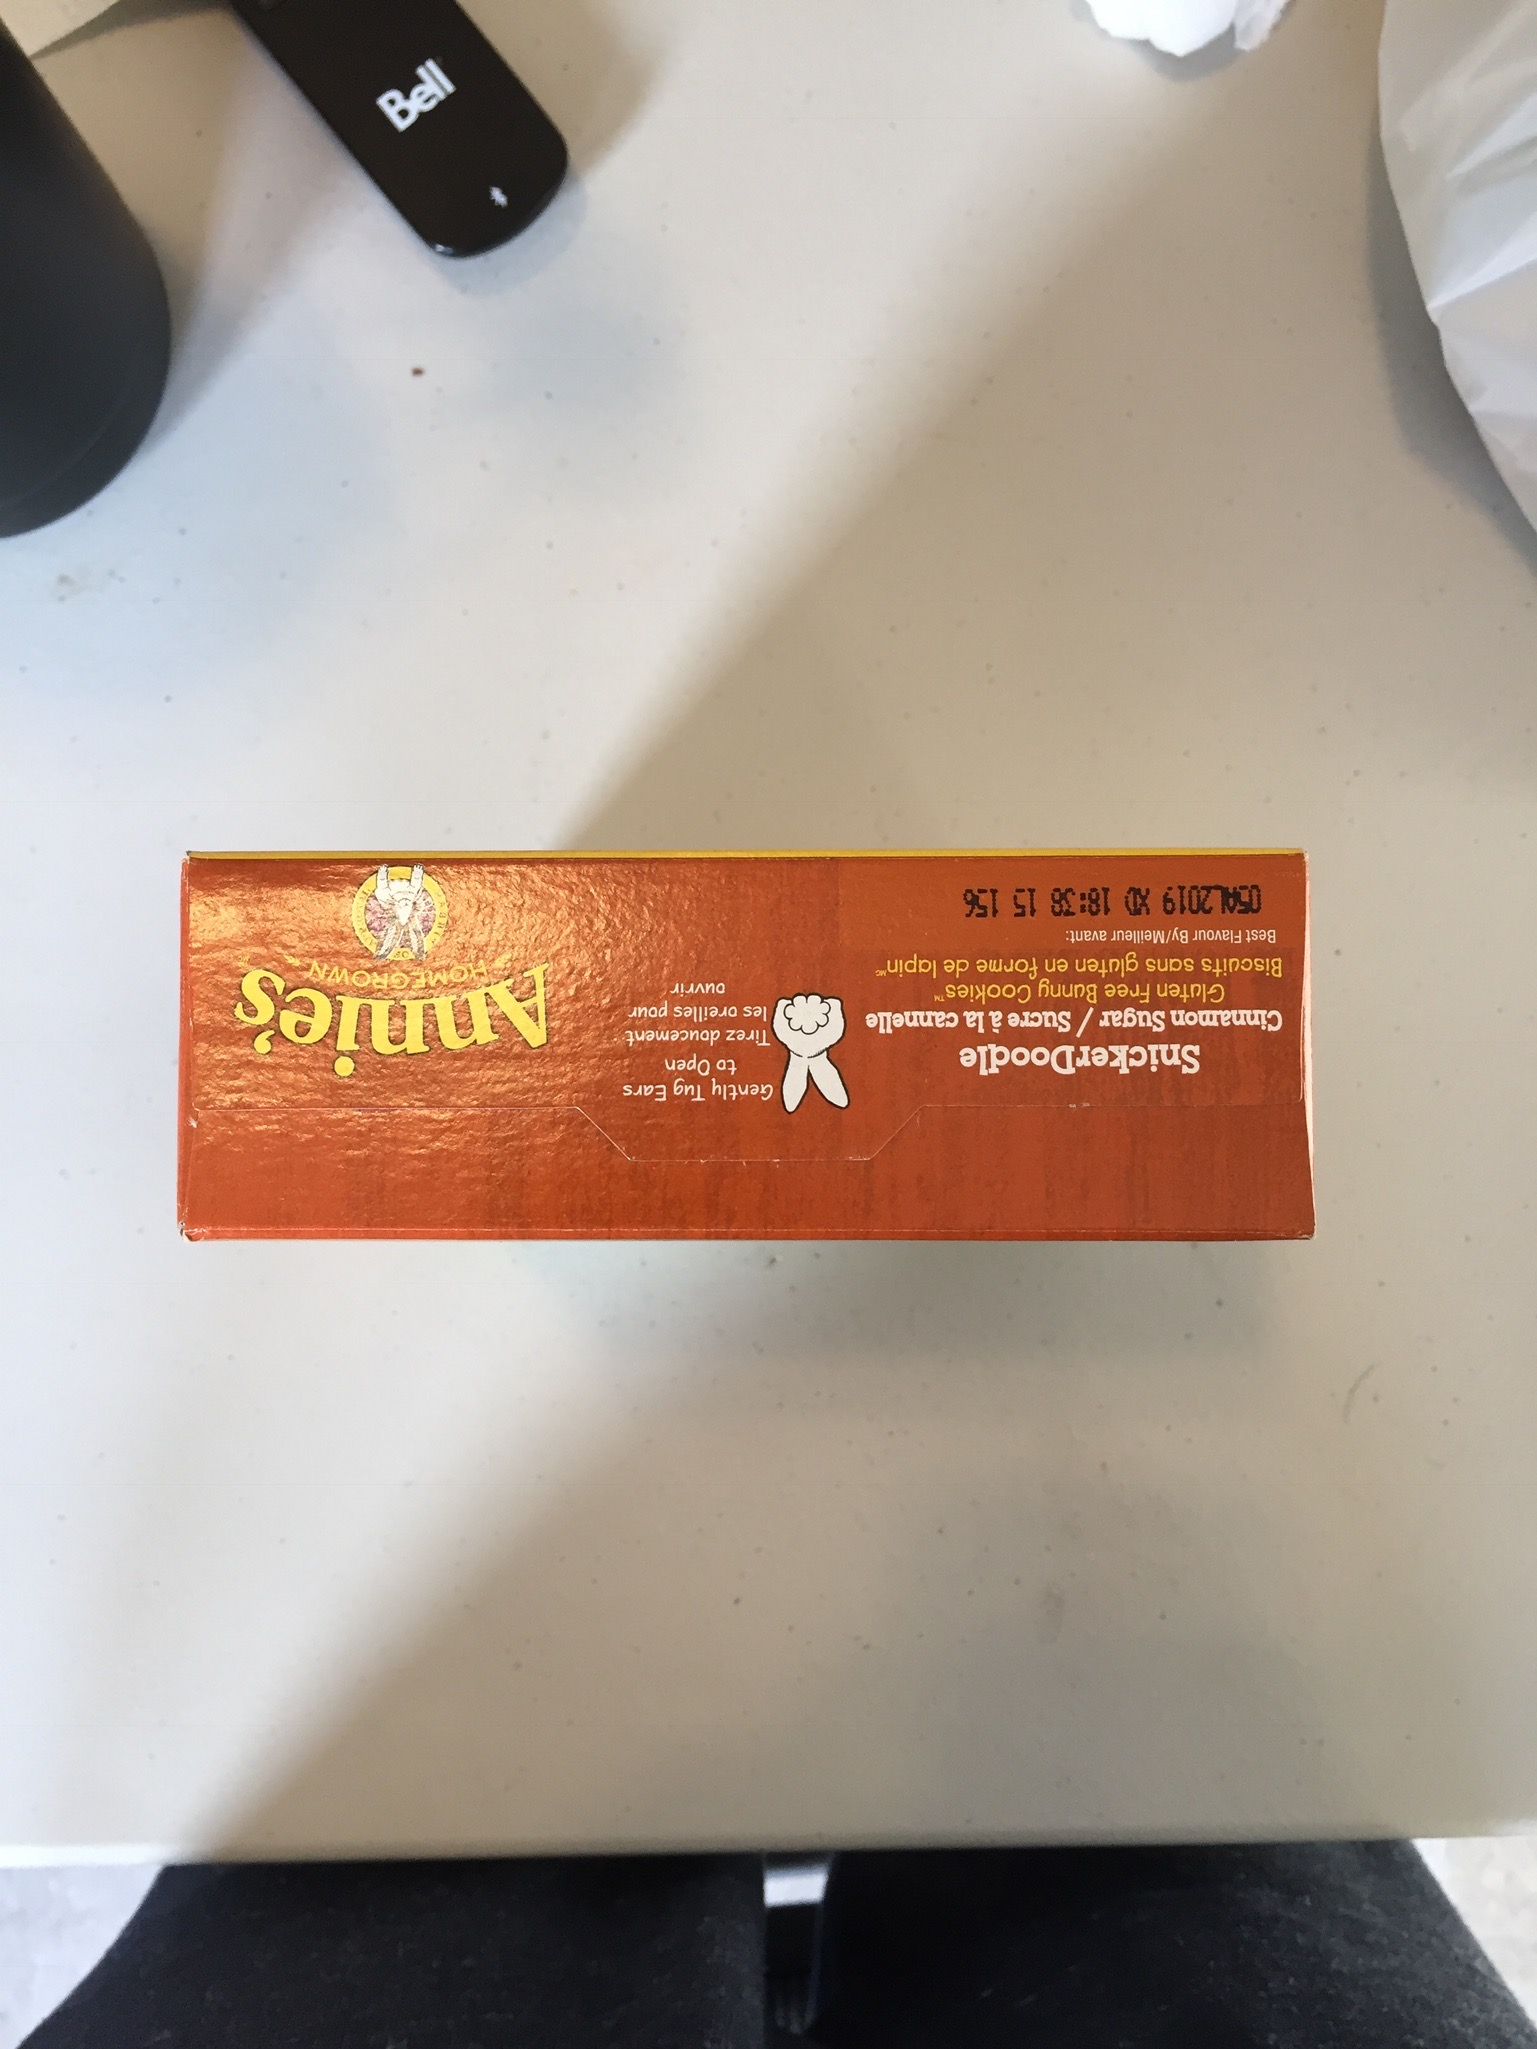annies_snickerdoodle_cinnamon_sugar: (202, 862, 1313, 1227)
